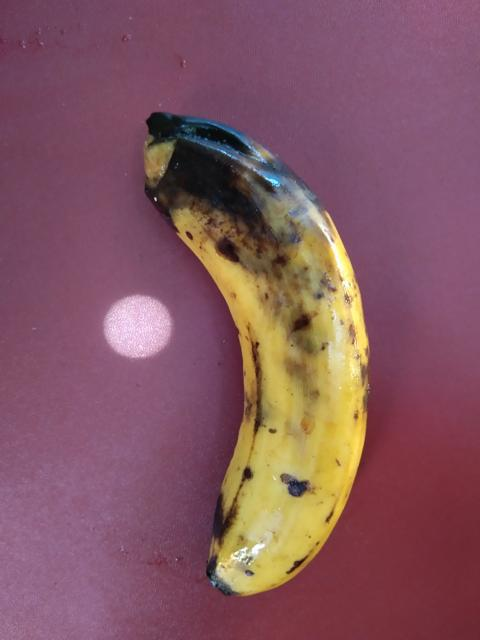rotten: (107, 98, 403, 639)
